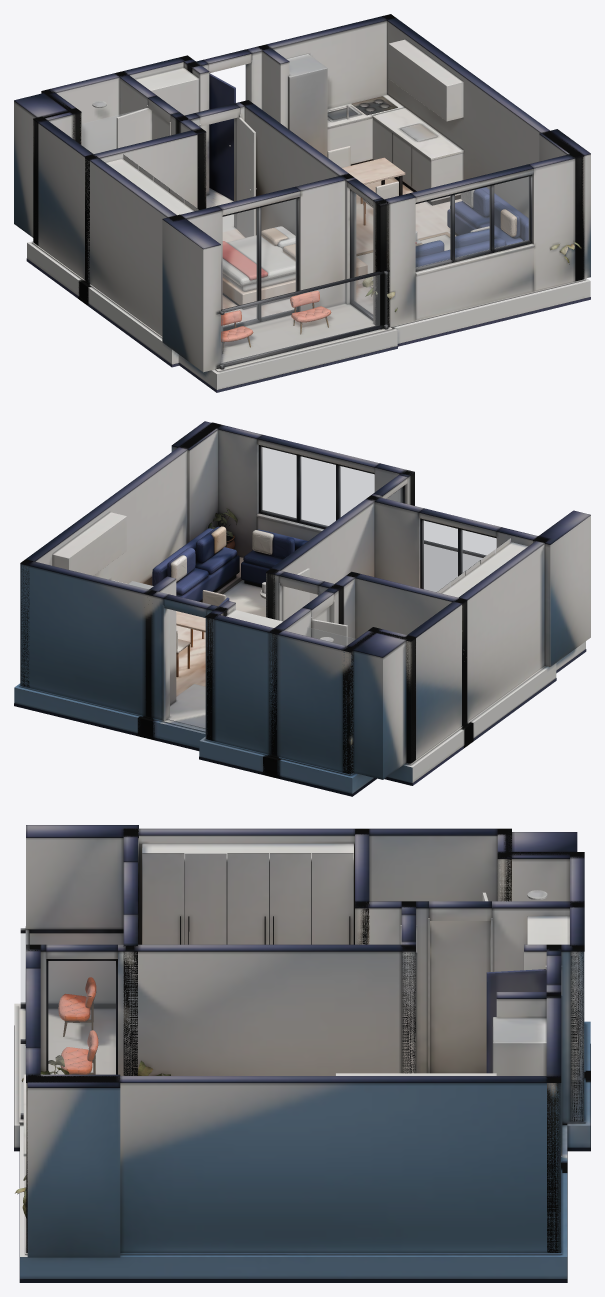
The picture shows the model from 3 angles, top to bottom: view 1: azimuth 30°, elevation 25°; view 2: azimuth 150°, elevation 25°; view 3: azimuth 270°, elevation 25°; orthographic projection. The views are drawn at different scales.
Visible parts, largest first — view 1: plan, railg2_m, glass0_m, glass2_m, glass1_m, sg.001_m; view 2: plan, glass2_m, glass0_m, railg2_m; view 3: plan, glass1_m, railg3_m.
Boxes of the visible parts, x1,y1,x2,y2 form: plan: (14,14,590,392); railg2_m: (221,275,379,363); glass0_m: (223,199,296,326); glass2_m: (416,177,529,268); glass1_m: (352,191,372,315); sg.001_m: (82,110,137,153); plan: (14,421,590,796); glass2_m: (261,447,374,526); glass0_m: (423,520,496,591); railg2_m: (424,544,481,591); plan: (14,825,590,1282); glass1_m: (48,961,115,1074); railg3_m: (21,933,122,1002).
Size of the model in its own units: 7.44 by 2.62 by 6.92.
Materials: 2 (1 with a texture image).
